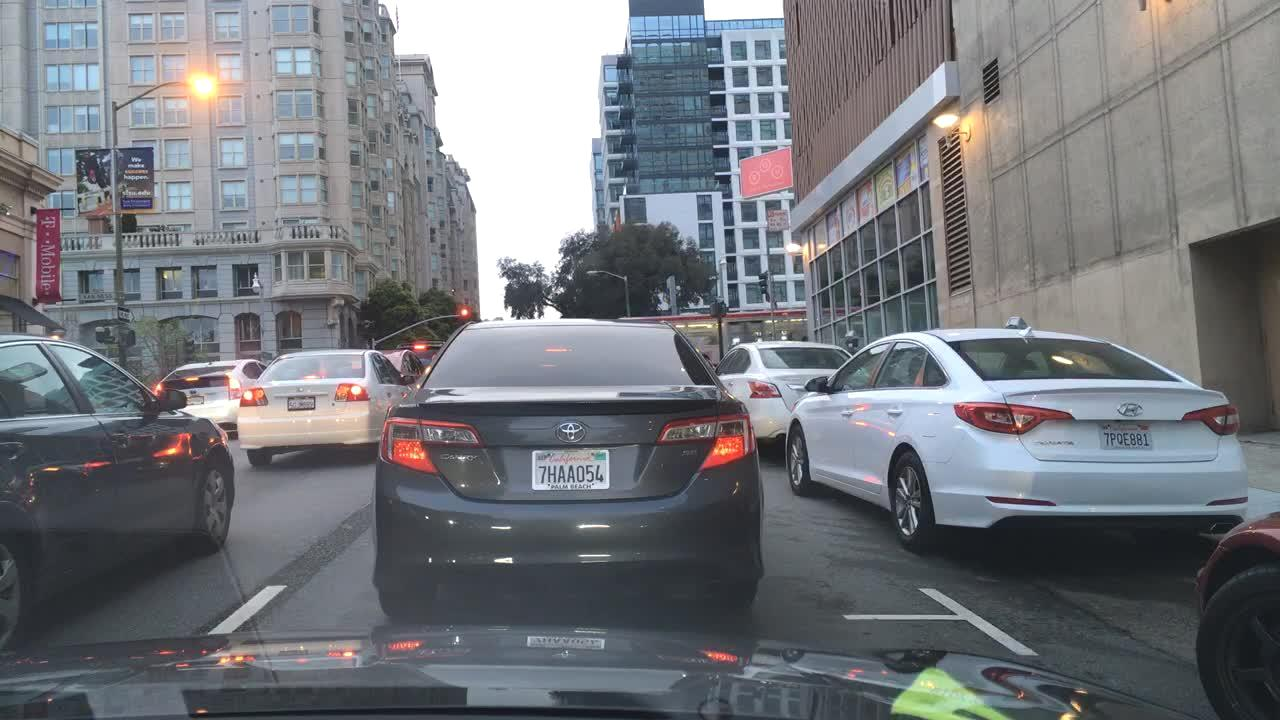Hyundai: (1102, 390, 1155, 429)
Toyota: (541, 417, 606, 457)
